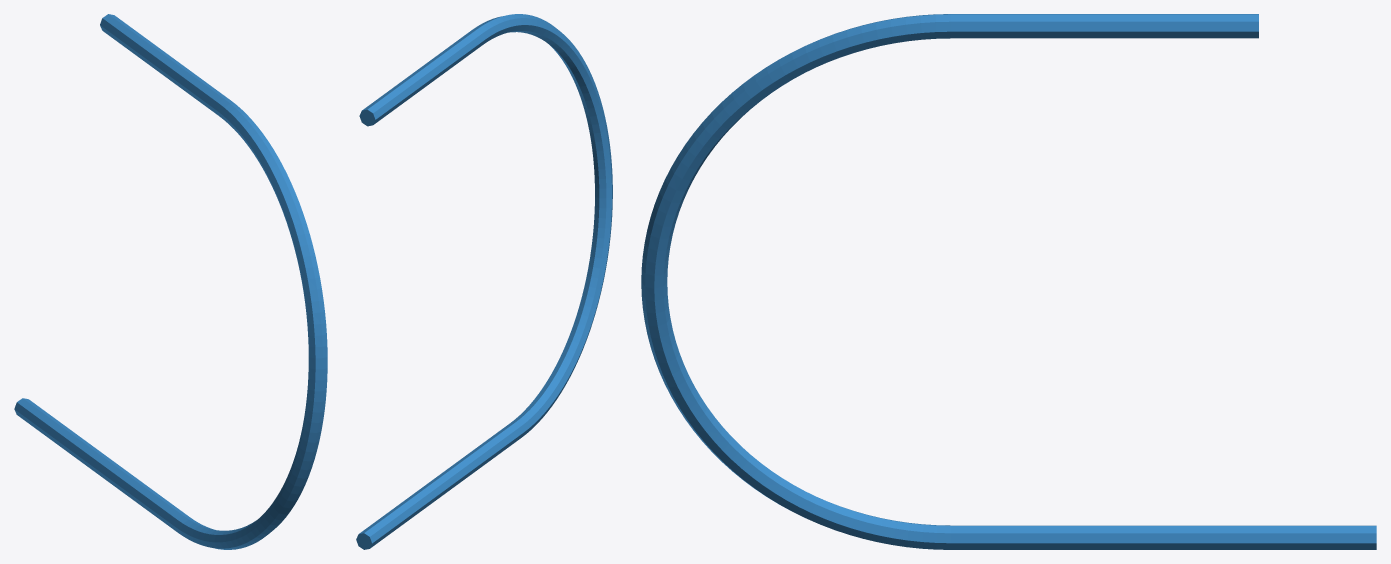
File: J2_cavity_4_blue_Alpha3057_16AWG.glb
The picture shows the model from 3 angles, left to right: view 1: azimuth 30°, elevation 25°; view 2: azimuth 150°, elevation 25°; view 3: azimuth 270°, elevation 25°; orthographic projection. The views are drawn at different scales.
Parts seen in each view (by area): view 1: J2 cavity 4 blue Alpha3057_16AWG; view 2: J2 cavity 4 blue Alpha3057_16AWG; view 3: J2 cavity 4 blue Alpha3057_16AWG.
Part boxes in pixels (left/top/right/bottom): J2 cavity 4 blue Alpha3057_16AWG: left=14, top=14, right=327, bottom=549; J2 cavity 4 blue Alpha3057_16AWG: left=356, top=14, right=612, bottom=549; J2 cavity 4 blue Alpha3057_16AWG: left=641, top=14, right=1376, bottom=549.
Size of the model in its own units: 8.13 by 56.79 by 67.39.
